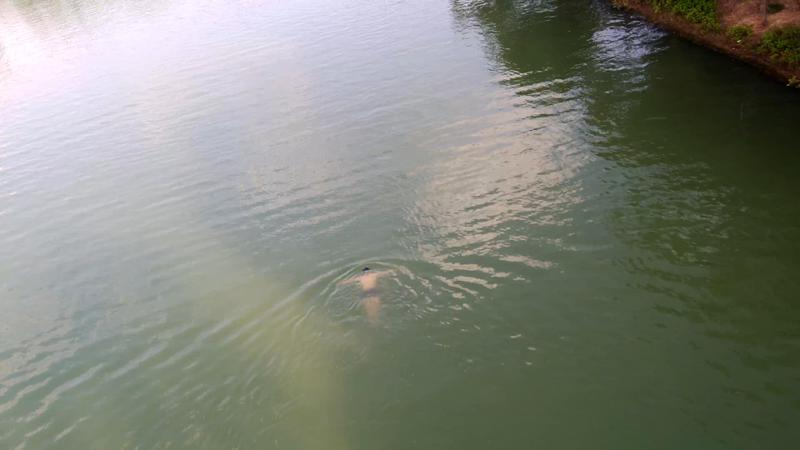swimmers: (334, 261, 403, 332)
